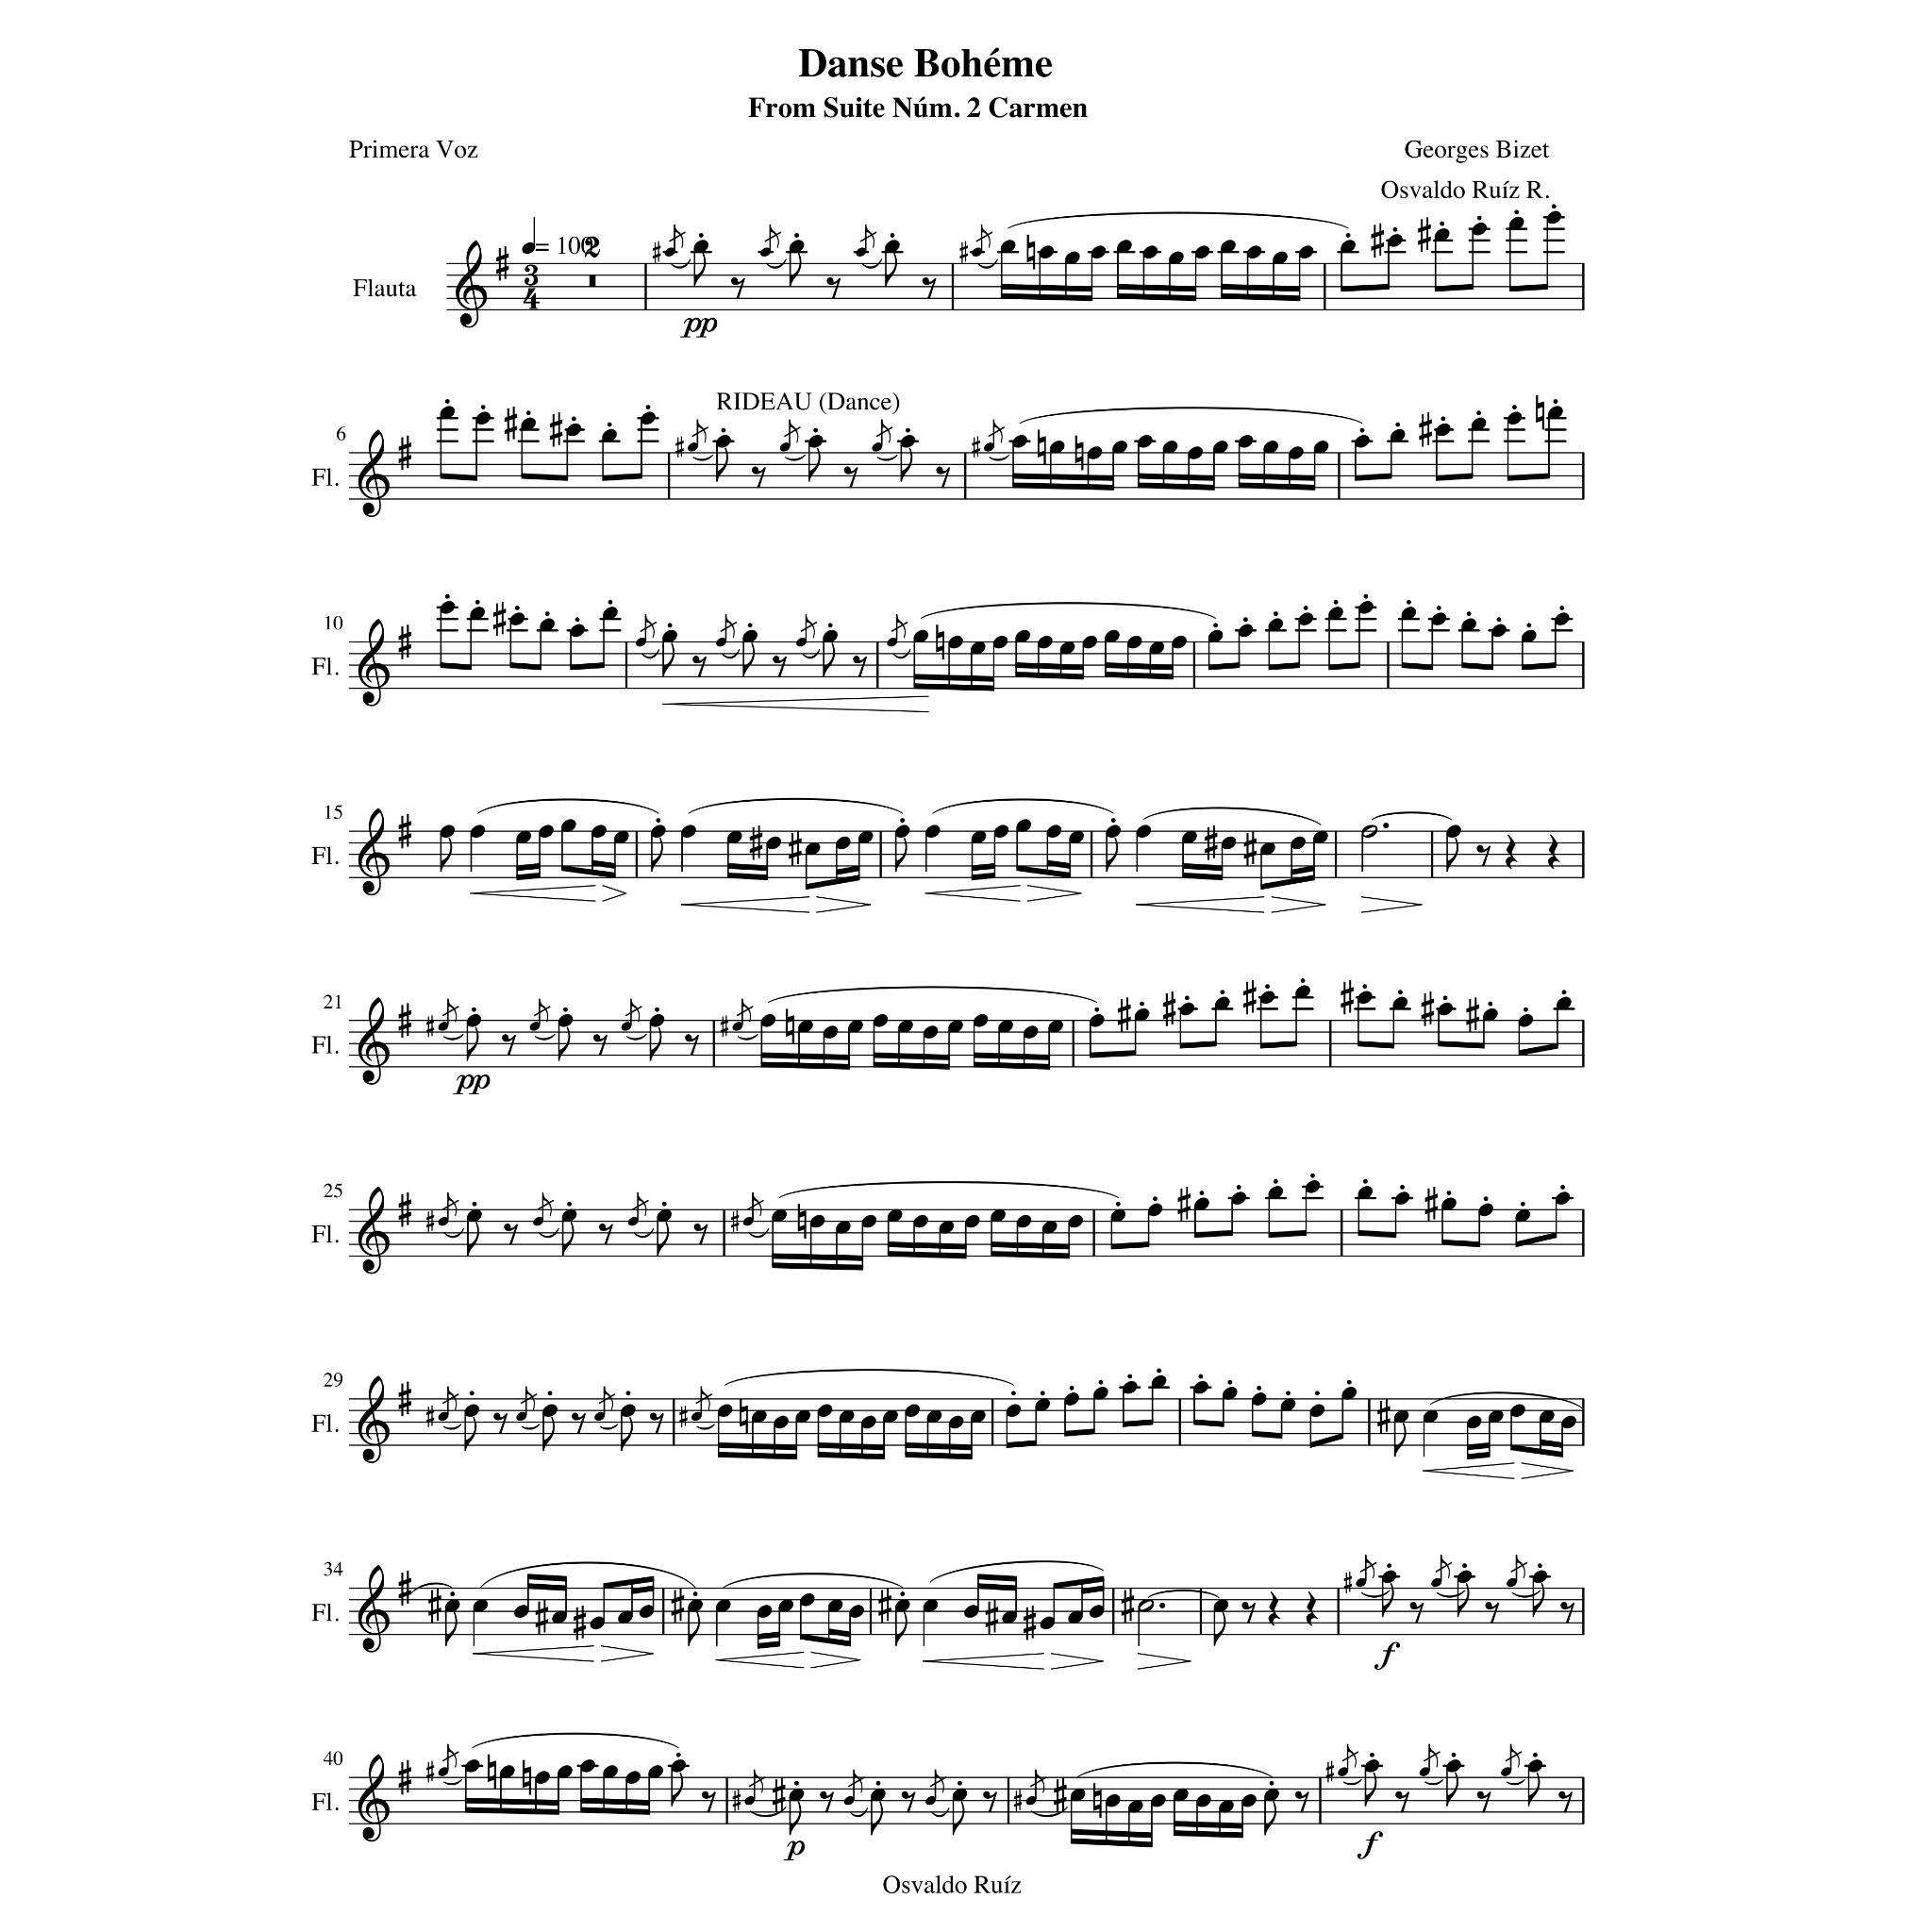flag8thDown: (809, 448, 821, 483), (901, 448, 913, 483), (717, 448, 729, 483), (663, 642, 676, 678), (743, 642, 755, 678), (823, 642, 835, 678), (1106, 837, 1118, 872), (1447, 837, 1460, 872), (651, 837, 663, 872), (441, 837, 453, 872), (895, 837, 908, 872), (557, 1026, 570, 1062), (649, 1026, 662, 1062), (467, 1026, 479, 1062), (656, 1221, 669, 1256), (467, 1221, 479, 1256), (1394, 1422, 1407, 1458), (1214, 1612, 1226, 1647), (1382, 1582, 1394, 1617), (1532, 1582, 1545, 1617), (688, 1612, 701, 1647), (444, 1612, 456, 1647), (895, 1612, 908, 1647), (694, 253, 706, 287), (789, 253, 801, 287), (885, 253, 897, 287), (621, 1417, 633, 1451), (543, 1417, 556, 1451), (465, 1417, 478, 1451), (1265, 1801, 1277, 1835), (1364, 1773, 1376, 1806), (1447, 1773, 1460, 1806), (671, 1773, 683, 1806), (870, 1801, 883, 1835), (952, 1801, 964, 1835), (789, 1801, 801, 1835), (563, 1221, 573, 1256), (1458, 1582, 1468, 1617), (1529, 1773, 1539, 1806)
flag8thUp: (858, 218, 878, 249), (1028, 1762, 1047, 1794), (1509, 1548, 1529, 1578), (764, 218, 782, 249), (669, 218, 686, 249), (975, 218, 993, 249), (692, 412, 709, 444), (987, 412, 1005, 444), (876, 412, 893, 444), (784, 412, 801, 444), (632, 1185, 649, 1217), (747, 1185, 764, 1217), (441, 1185, 458, 1217), (536, 1185, 554, 1217), (847, 1762, 865, 1794), (929, 1762, 947, 1794), (748, 1762, 766, 1794), (720, 609, 738, 639), (639, 609, 656, 639), (800, 609, 817, 639), (890, 609, 908, 639), (625, 993, 642, 1023), (736, 993, 754, 1023), (441, 993, 458, 1023), (533, 993, 550, 1023), (598, 1380, 616, 1410), (695, 1380, 713, 1410), (441, 1380, 458, 1410), (520, 1380, 538, 1410), (1359, 1548, 1376, 1578), (1435, 1548, 1453, 1578), (1341, 1737, 1359, 1767), (1422, 1737, 1440, 1767), (1504, 1737, 1522, 1767), (441, 1737, 458, 1767)
gClef: (357, 807, 389, 897), (357, 1375, 389, 1465), (455, 241, 487, 329), (357, 430, 389, 518), (357, 619, 389, 708), (357, 998, 389, 1086), (357, 1187, 389, 1276), (357, 1566, 389, 1654), (357, 1753, 389, 1842)
noteheadBlack: (1141, 246, 1159, 260), (787, 239, 805, 253), (1313, 441, 1330, 455), (474, 412, 492, 426), (1327, 607, 1345, 621), (1553, 612, 1571, 626), (1014, 630, 1031, 644), (602, 607, 619, 621), (1214, 996, 1231, 1010), (971, 1014, 989, 1028), (1440, 1198, 1458, 1212), (886, 1208, 904, 1223), (686, 1599, 704, 1614), (616, 1610, 633, 1624), (1127, 1799, 1145, 1813), (602, 1764, 619, 1778), (787, 1789, 805, 1803), (1297, 246, 1313, 260), (1339, 239, 1355, 253), (1272, 251, 1288, 265), (1168, 251, 1184, 265), (1116, 239, 1132, 253), (1246, 246, 1261, 260), (1221, 239, 1237, 253), (1194, 246, 1210, 260), (1433, 228, 1449, 242), (1546, 211, 1562, 225), (1509, 216, 1525, 230), (1472, 223, 1488, 237), (694, 239, 709, 253), (1090, 246, 1106, 260), (1063, 251, 1079, 265), (1039, 246, 1054, 260), (885, 239, 901, 253), (1263, 441, 1279, 455), (1238, 435, 1254, 449), (1212, 441, 1228, 455), (1187, 446, 1203, 460), (1288, 446, 1304, 460), (1086, 446, 1102, 460), (1049, 441, 1065, 455), (1012, 435, 1028, 449), (1138, 435, 1154, 449), (1111, 441, 1127, 455), (1548, 407, 1564, 421), (1435, 423, 1451, 437), (1391, 428, 1407, 442), (1506, 412, 1522, 426), (1470, 418, 1486, 432), (640, 412, 656, 426), (602, 428, 617, 442), (715, 435, 731, 449), (439, 407, 455, 421), (566, 423, 582, 437), (520, 418, 536, 432), (899, 435, 915, 449), (807, 435, 823, 449), (1297, 612, 1313, 626), (1267, 617, 1283, 632), (1060, 640, 1076, 655), (1081, 635, 1097, 649), (1104, 630, 1120, 644), (1037, 635, 1053, 649), (1148, 640, 1164, 655), (1171, 635, 1187, 649), (1207, 630, 1223, 644), (1125, 635, 1141, 649), (1431, 612, 1447, 626), (1401, 607, 1417, 621), (1522, 630, 1537, 644), (1491, 625, 1507, 639), (1359, 600, 1375, 614), (1461, 617, 1477, 632), (469, 607, 485, 621), (662, 630, 678, 644), (741, 630, 757, 644), (570, 625, 586, 639), (540, 617, 556, 632), (510, 612, 525, 626), (948, 635, 964, 649), (913, 630, 929, 644), (993, 635, 1008, 649), (970, 640, 985, 655), (439, 600, 455, 614), (823, 630, 839, 644), (1260, 842, 1276, 856), (1182, 830, 1198, 844), (1221, 837, 1237, 851), (1313, 830, 1329, 844), (1290, 837, 1306, 851), (1069, 830, 1085, 844), (1106, 824, 1122, 839), (1046, 824, 1062, 839), (1016, 819, 1031, 833), (1136, 824, 1152, 839), (1445, 824, 1461, 839), (649, 824, 665, 839), (614, 830, 630, 844), (591, 824, 607, 839), (725, 830, 741, 844), (679, 824, 695, 839), (439, 824, 455, 839), (561, 819, 577, 833), (538, 824, 554, 839), (515, 830, 531, 844), (469, 824, 485, 839), (895, 824, 911, 839), (856, 830, 872, 844), (993, 824, 1008, 839), (970, 830, 985, 844), (925, 824, 941, 839), (766, 837, 782, 851), (805, 842, 821, 856), (835, 837, 851, 851), (1260, 991, 1276, 1005), (1357, 991, 1373, 1005), (1295, 985, 1311, 1000), (1090, 1014, 1106, 1028), (1047, 1019, 1063, 1033), (1134, 1008, 1150, 1023), (1178, 1003, 1194, 1017), (1023, 1024, 1039, 1039), (1557, 996, 1573, 1010), (1437, 1003, 1453, 1017), (1392, 996, 1408, 1010), (1518, 1014, 1534, 1028), (1483, 1008, 1499, 1023), (649, 1014, 665, 1028), (557, 1014, 573, 1028), (465, 1014, 481, 1028), (872, 1014, 888, 1028), (847, 1019, 863, 1033), (922, 1024, 938, 1039), (897, 1019, 913, 1033), (948, 1019, 964, 1033), (998, 1019, 1014, 1033), (798, 1019, 814, 1033), (823, 1024, 839, 1039), (1231, 1191, 1247, 1205), (1194, 1198, 1210, 1212), (1357, 1185, 1373, 1200), (1304, 1180, 1320, 1194), (1267, 1185, 1283, 1200), (1067, 1214, 1083, 1228), (1109, 1208, 1125, 1223), (1042, 1221, 1058, 1235), (1016, 1214, 1031, 1228), (1146, 1203, 1162, 1217), (1555, 1191, 1571, 1205), (1394, 1191, 1410, 1205), (1514, 1208, 1530, 1223), (1477, 1203, 1493, 1217), (656, 1208, 672, 1223), (561, 1208, 577, 1223), (465, 1208, 481, 1223), (913, 1214, 929, 1228), (862, 1214, 878, 1228), (991, 1208, 1007, 1223), (964, 1214, 980, 1228), (938, 1221, 954, 1235), (771, 1208, 787, 1223), (809, 1214, 824, 1228), (835, 1221, 851, 1235), (1223, 1387, 1238, 1401), (1192, 1380, 1208, 1394), (1279, 1398, 1295, 1412), (1309, 1405, 1325, 1419), (1251, 1392, 1267, 1407), (1063, 1392, 1079, 1407), (1035, 1398, 1051, 1412), (1150, 1375, 1166, 1389), (1122, 1380, 1138, 1394), (1092, 1387, 1108, 1401), (1560, 1415, 1576, 1430), (1539, 1410, 1555, 1424), (1392, 1410, 1408, 1424), (1341, 1387, 1357, 1401), (1509, 1405, 1525, 1419), (1488, 1410, 1504, 1424), (1467, 1415, 1483, 1430), (1422, 1410, 1438, 1424), (621, 1405, 637, 1419), (717, 1405, 732, 1419), (464, 1405, 479, 1419), (904, 1405, 920, 1419), (883, 1410, 899, 1424), (862, 1415, 878, 1430), (839, 1410, 855, 1424), (1005, 1405, 1021, 1419), (970, 1410, 985, 1424), (948, 1415, 964, 1430), (925, 1410, 941, 1424), (794, 1410, 810, 1424), (773, 1415, 789, 1430), (752, 1410, 768, 1424), (1088, 1605, 1104, 1619), (1067, 1610, 1083, 1624), (1212, 1599, 1228, 1614), (1456, 1571, 1472, 1585), (1380, 1571, 1396, 1585), (1532, 1571, 1548, 1585), (639, 1605, 655, 1619), (589, 1617, 605, 1631), (715, 1599, 731, 1614), (1039, 1617, 1054, 1631), (444, 1599, 460, 1614), (552, 1610, 568, 1624), (513, 1605, 529, 1619), (472, 1599, 488, 1614), (895, 1599, 911, 1614), (1001, 1610, 1017, 1624), (964, 1605, 980, 1619), (922, 1599, 938, 1614), (826, 1599, 842, 1614), (800, 1592, 816, 1606), (849, 1605, 865, 1619), (778, 1599, 794, 1614), (1263, 1789, 1279, 1803), (1196, 1794, 1212, 1808), (1240, 1794, 1256, 1808), (1219, 1799, 1235, 1813), (1104, 1794, 1120, 1808), (1069, 1789, 1085, 1803), (1173, 1789, 1189, 1803), (1150, 1794, 1166, 1808), (1445, 1759, 1461, 1773), (1364, 1759, 1380, 1773), (1527, 1759, 1543, 1773), (625, 1771, 640, 1785), (580, 1759, 596, 1773), (557, 1764, 573, 1778), (671, 1759, 686, 1773), (648, 1764, 663, 1778), (534, 1771, 550, 1785), (499, 1764, 515, 1778), (464, 1759, 479, 1773), (870, 1789, 886, 1803), (952, 1789, 968, 1803), (1001, 239, 1016, 253), (1355, 435, 1369, 449), (1162, 441, 1177, 455), (1238, 625, 1253, 639), (761, 1014, 775, 1028), (543, 1405, 557, 1419), (817, 1405, 832, 1419), (757, 1605, 771, 1619), (1387, 235, 1403, 248), (759, 248, 771, 258), (663, 248, 676, 258), (686, 442, 699, 453), (870, 442, 883, 453), (778, 442, 791, 453), (715, 637, 727, 648), (794, 637, 807, 648), (886, 637, 899, 648), (529, 1021, 541, 1031), (593, 1412, 605, 1422), (690, 1412, 702, 1422), (856, 248, 867, 258), (971, 248, 982, 258), (984, 442, 994, 453), (635, 637, 646, 648), (621, 1021, 632, 1031), (732, 1021, 743, 1031), (437, 1021, 448, 1031), (437, 1412, 448, 1422), (517, 1412, 527, 1422), (1338, 1766, 1348, 1776), (1419, 1766, 1430, 1776), (1500, 1766, 1511, 1776), (745, 1796, 755, 1806), (437, 1766, 448, 1776), (925, 1796, 936, 1806), (844, 1796, 855, 1806), (1026, 1796, 1037, 1806), (1355, 1578, 1368, 1587), (628, 1217, 639, 1226), (743, 1217, 754, 1226), (437, 1217, 448, 1226), (533, 1217, 543, 1226), (1431, 1578, 1442, 1587), (1507, 1578, 1518, 1587)
noteheadHalf: (1361, 824, 1378, 839), (1138, 1599, 1155, 1614)
rest8th: (826, 278, 842, 301), (750, 467, 766, 490), (1476, 846, 1491, 869), (501, 1033, 517, 1056), (492, 1412, 508, 1435), (1484, 1601, 1500, 1624), (1394, 1790, 1410, 1813), (1476, 1790, 1491, 1813), (701, 1790, 717, 1813), (901, 1790, 916, 1813), (982, 1790, 998, 1813), (771, 656, 787, 678), (851, 656, 867, 678), (598, 1224, 614, 1246), (502, 1224, 518, 1246), (731, 278, 745, 301), (922, 278, 936, 301), (844, 467, 858, 490), (936, 467, 950, 490), (593, 1033, 607, 1056), (685, 1033, 699, 1056), (649, 1412, 663, 1435), (571, 1412, 586, 1435), (1242, 1601, 1256, 1624), (1560, 1601, 1575, 1624), (1410, 1601, 1424, 1624), (1295, 1790, 1309, 1813), (1559, 1790, 1573, 1813), (819, 1790, 833, 1813), (692, 656, 706, 678), (694, 1224, 708, 1246)
restHNr: (584, 235, 600, 260)
restQuarter: (1548, 833, 1560, 870), (1506, 833, 1518, 870), (1269, 1592, 1281, 1628), (1306, 1592, 1318, 1628)
restWhole: (589, 276, 596, 288)
